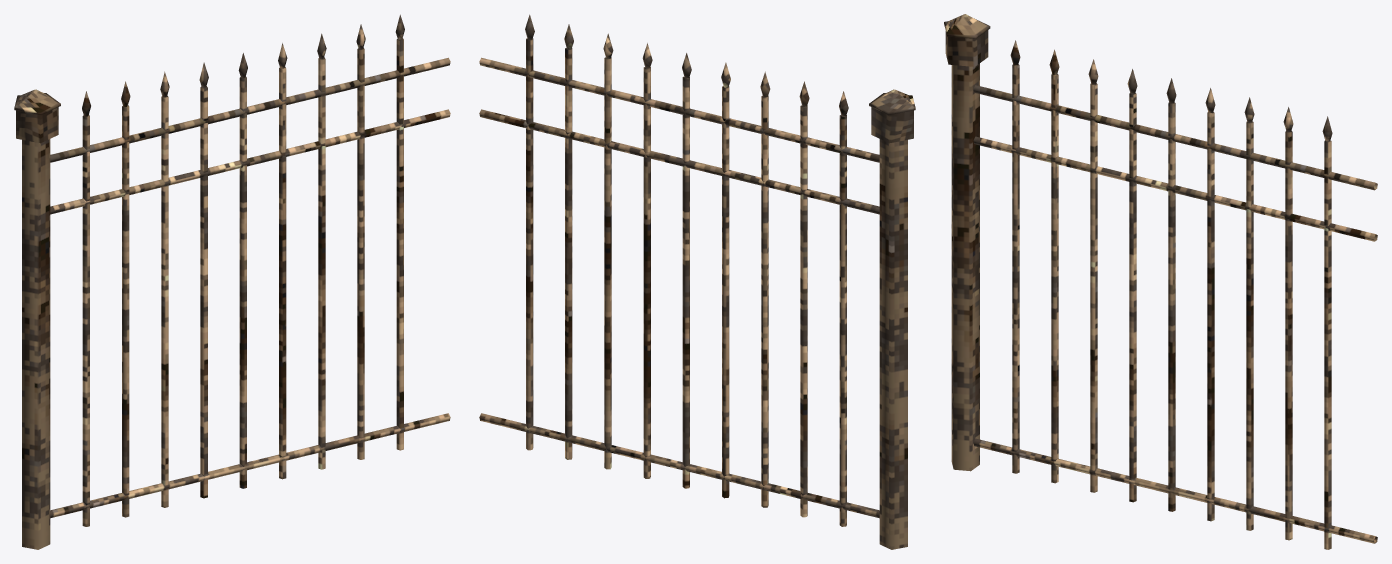
The model's file is fence.glb.
3 renders of one model, left to right at view 1: azimuth 30°, elevation 25°; view 2: azimuth 150°, elevation 25°; view 3: azimuth 330°, elevation 25°, orthographic.
Visible parts, largest first — view 1: fence_geo1; view 2: fence_geo1; view 3: fence_geo1.
Boxes of the visible parts, <box> form: fence_geo1: <box>14,14,450,549</box>; fence_geo1: <box>479,14,915,549</box>; fence_geo1: <box>944,14,1377,549</box>.
Size of the model in its own units: 1.33 by 1.33 by 0.1262.
1 material, 1 textured.
